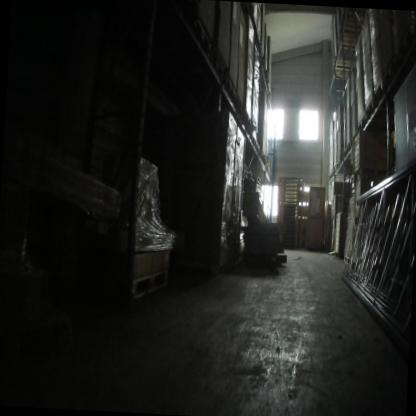pallet: (131, 266, 170, 303), (192, 17, 212, 58), (382, 50, 398, 88), (209, 48, 225, 79), (341, 21, 363, 37), (224, 75, 236, 102), (338, 36, 356, 50), (332, 67, 349, 80), (333, 57, 352, 68), (365, 96, 374, 119), (357, 112, 366, 132), (233, 96, 242, 114), (245, 110, 251, 123), (347, 138, 352, 150), (343, 146, 348, 157), (255, 142, 260, 153), (252, 135, 256, 146), (330, 168, 334, 176), (336, 159, 339, 168), (263, 155, 266, 163), (334, 164, 336, 172), (328, 172, 330, 178)
